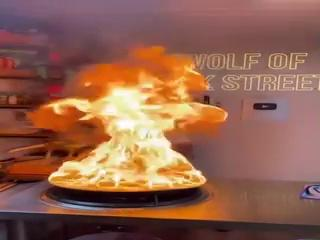Fire: (31, 59, 210, 194)
